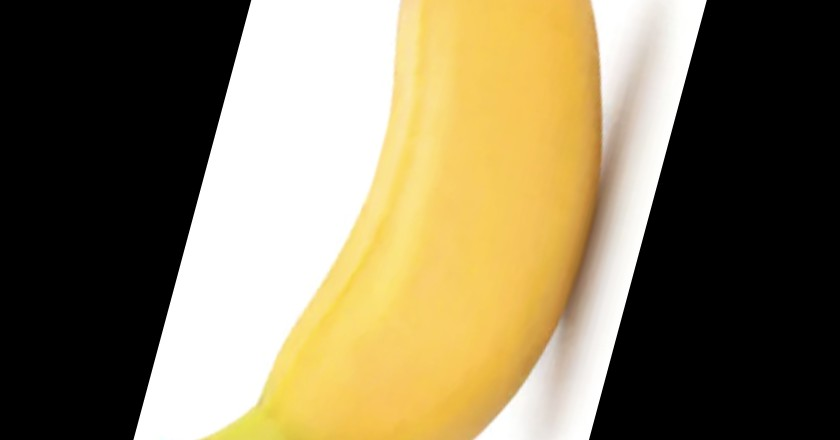fresh_banana: (195, 2, 602, 440)
